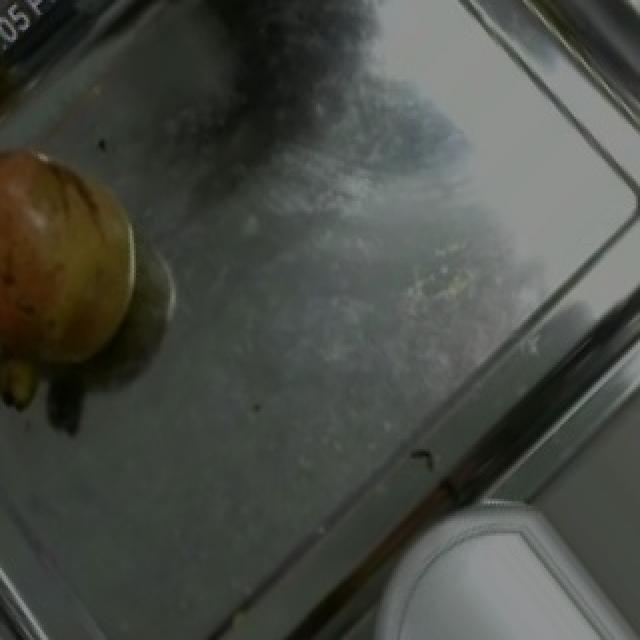fruit: (2, 129, 172, 424)
